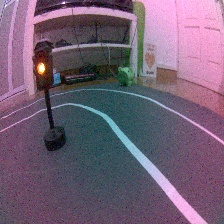amber: (30, 45, 68, 151)
